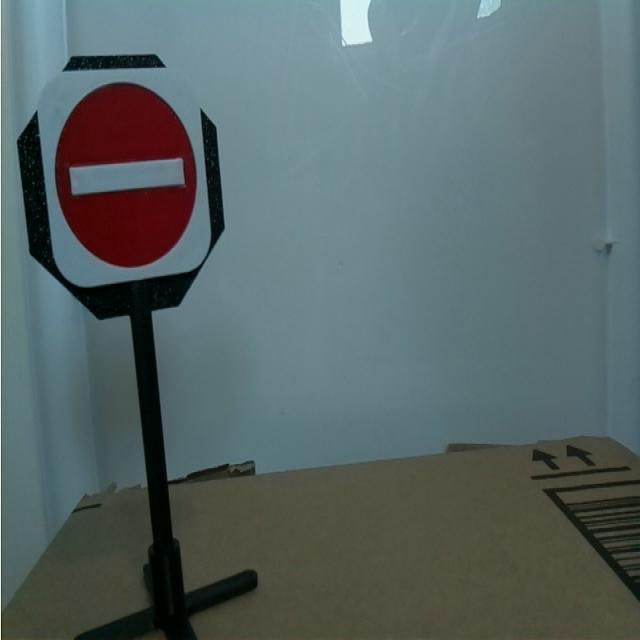sign_noentry: (38, 71, 211, 280)
